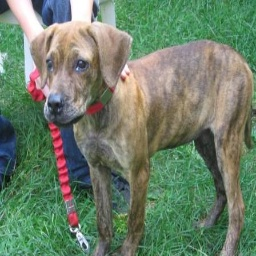dog: (26, 18, 250, 256)
